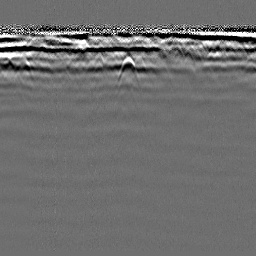cavity: (115, 53, 139, 84)
